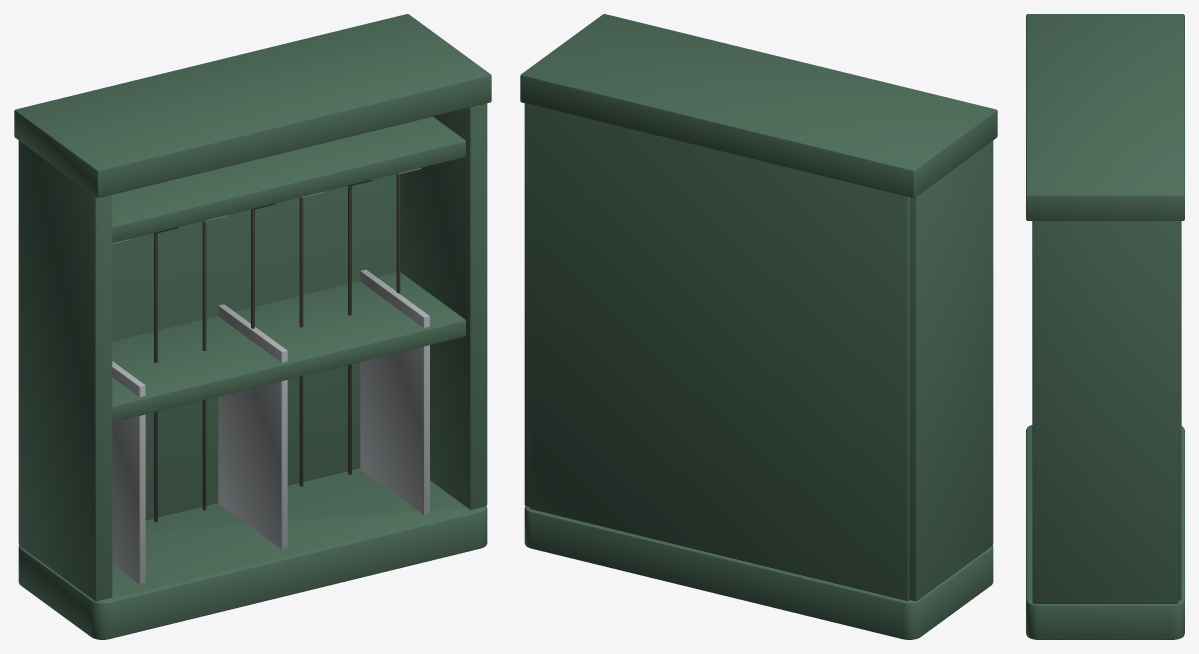
The model's file is rental_club_storage_public.glb.
3 views of the same model, side by side, from view 1: azimuth 30°, elevation 25°; view 2: azimuth 150°, elevation 25°; view 3: azimuth 270°, elevation 25° (orthographic). The views are drawn at different scales.
Visible parts, largest first — view 1: ClubStorage_Top, ClubStorage_Back, ClubStorage_Side_-1, ClubStorage_Plinth, ClubStorage_Shelf_1, ClubStorage_Side_1, ClubStorage_Shelf_2, RentalStorage_BayDivider_3, RentalStorage_BayDivider_2, RentalStorage_BayDivider_1, StoredClub_Shaft_3, StoredClub_Shaft_5 (+2 smaller); view 2: ClubStorage_Back, ClubStorage_Top, ClubStorage_Side_-1, ClubStorage_Plinth, ClubStorage_Side_1; view 3: ClubStorage_Side_1, ClubStorage_Top, ClubStorage_Plinth, ClubStorage_Back.
Part boxes in pixels (<box>): ClubStorage_Top: <box>14,14,491,197</box>; ClubStorage_Back: <box>112,174,396,520</box>; ClubStorage_Side_-1: <box>18,140,112,601</box>; ClubStorage_Plinth: <box>18,468,487,639</box>; ClubStorage_Shelf_1: <box>112,272,465,422</box>; ClubStorage_Side_1: <box>400,103,487,509</box>; ClubStorage_Shelf_2: <box>112,116,465,242</box>; RentalStorage_BayDivider_3: <box>360,269,429,514</box>; RentalStorage_BayDivider_2: <box>218,304,287,549</box>; RentalStorage_BayDivider_1: <box>112,361,145,584</box>; StoredClub_Shaft_3: <box>202,221,206,510</box>; StoredClub_Shaft_5: <box>299,197,303,486</box>; ClubStorage_Back: <box>529,104,909,600</box>; ClubStorage_Top: <box>520,14,997,197</box>; ClubStorage_Side_-1: <box>909,140,993,601</box>; ClubStorage_Plinth: <box>524,506,993,639</box>; ClubStorage_Side_1: <box>524,103,529,506</box>; ClubStorage_Side_1: <box>1032,221,1178,603</box>; ClubStorage_Top: <box>1026,14,1184,220</box>; ClubStorage_Plinth: <box>1026,425,1184,639</box>; ClubStorage_Back: <box>1178,221,1181,600</box>.
Size of what is drawn, in the model's own units: 1.68 by 1.92 by 0.62.
